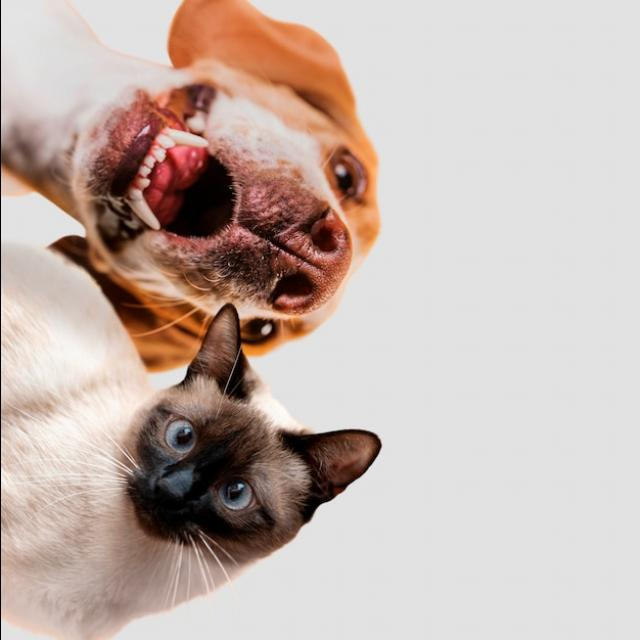cat: (0, 322, 379, 640)
dog: (31, 1, 396, 362)
